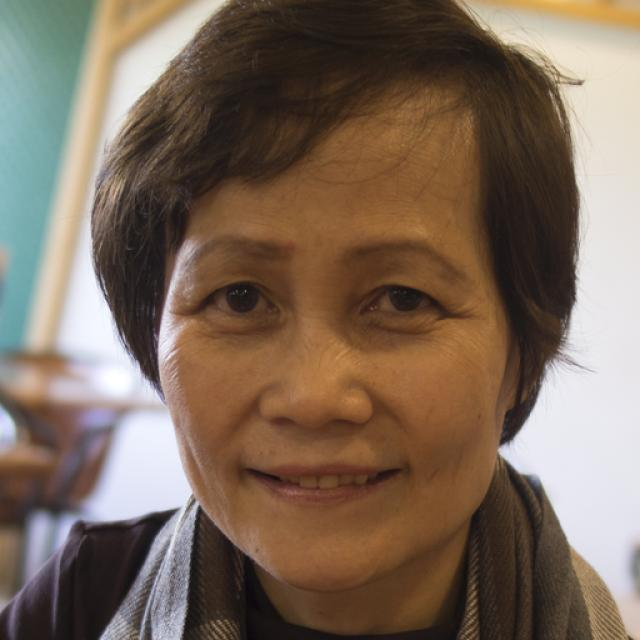Dark Circle: (346, 312, 436, 350), (208, 306, 282, 342)
